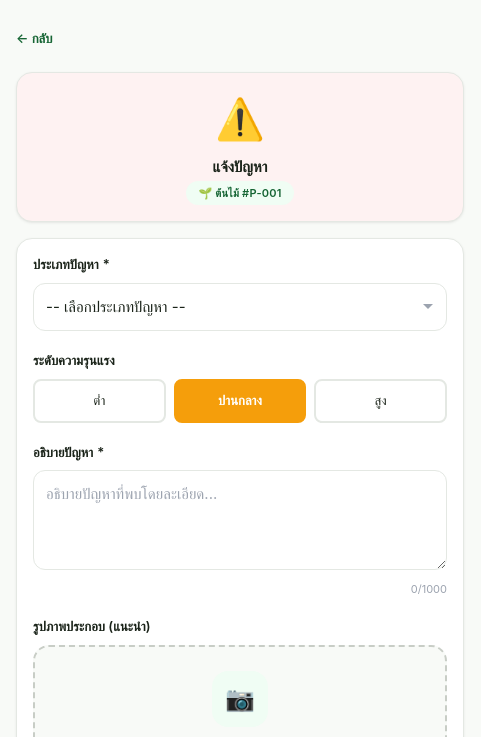
Test: ProblemReport › form validation › shows error when submitting without description
The width and height of the screenshot is (481, 737).
# Select a problem type
Select "🐛 แมลง/ศัตรูพืช" in the dropdown: (240, 307) [33,282,447,331]
(page scrolled)
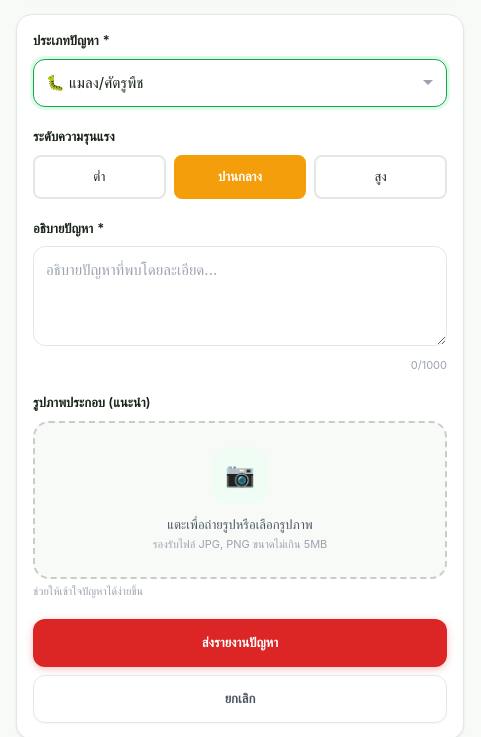
Click the button "ส่งรายงานปัญหา": (240, 643) [33,619,447,667]
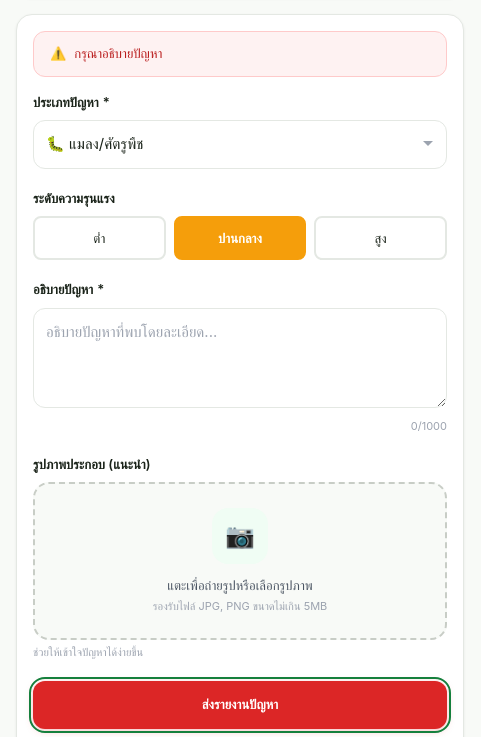
Now the message reads "กรุณาอธิบายปัญหา", box [74,45,162,61]
